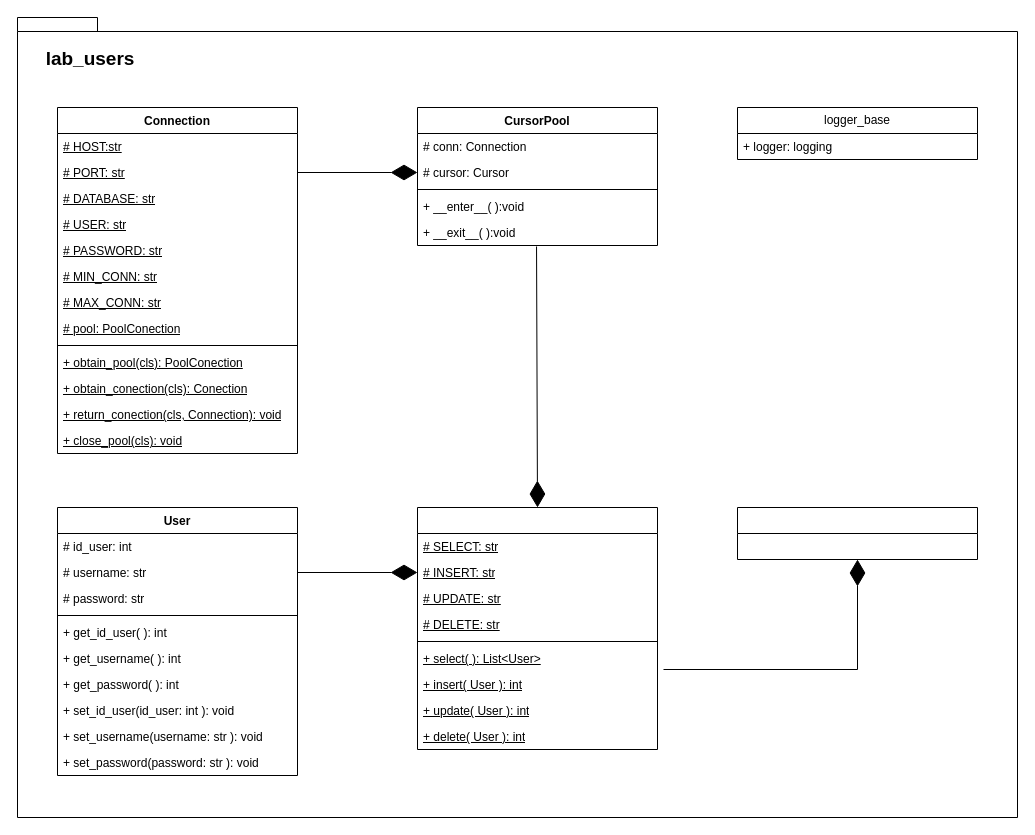
Some shapes in this 1035 by 835 pixel diagram are drawn without their labels. The shapes that lost their labels are listed below. From the top down, each one's box as (x1, y1, x2, y2) in pixels, then its label:
(736, 506, 978, 560): menu_app_user
(416, 506, 658, 750): UserDAO
